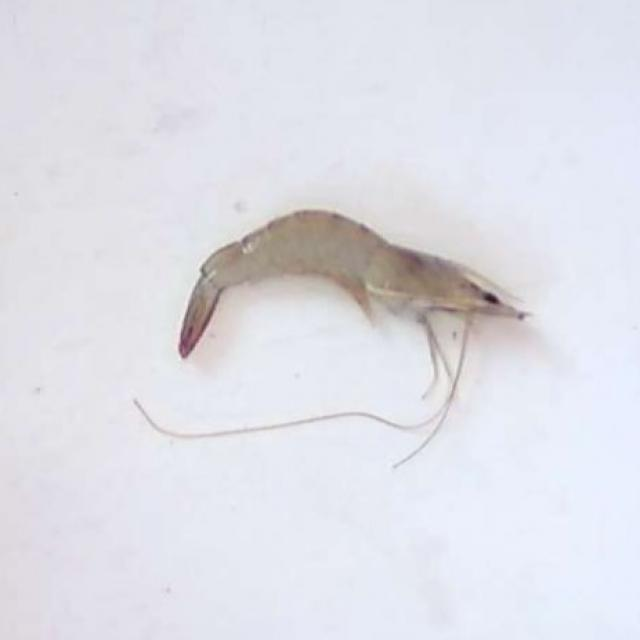shrimp: (178, 210, 527, 357)
